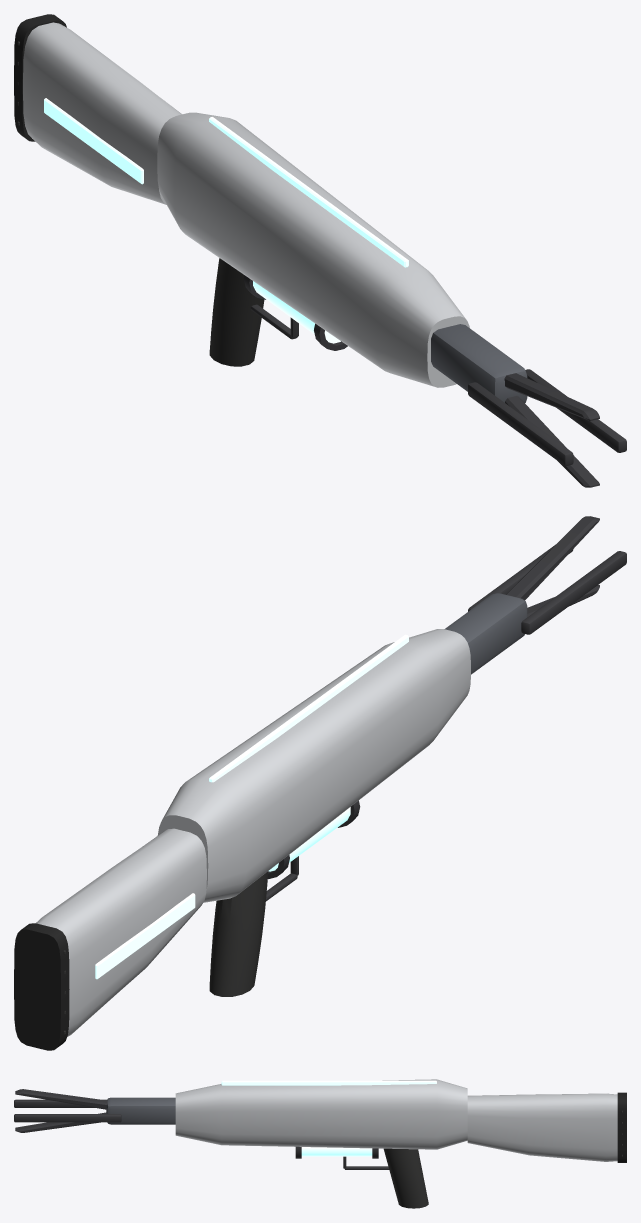
Rendered from rapier.glb.
3 views of the same model, one above another, from view 1: azimuth 30°, elevation 25°; view 2: azimuth 150°, elevation 25°; view 3: azimuth 270°, elevation 25° (orthographic). The views are drawn at different scales.
Parts seen in each view (by area): view 1: Body; view 2: Body; view 3: Body.
Boxes of the visible parts, box(x1,y1,x2,y2) form: Body: box(14, 14, 626, 487); Body: box(14, 516, 626, 1050); Body: box(14, 1079, 626, 1208).
Size of the model in its own units: 0.06 by 0.1759 by 0.797.
